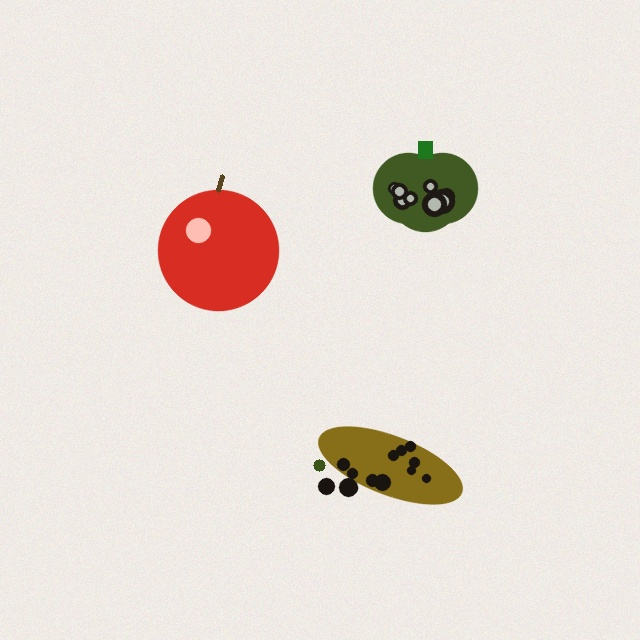Fresh apple: (158, 176, 278, 310)
Rotten banana: (311, 429, 469, 501)
Rotten bell pepper: (373, 141, 477, 231)
